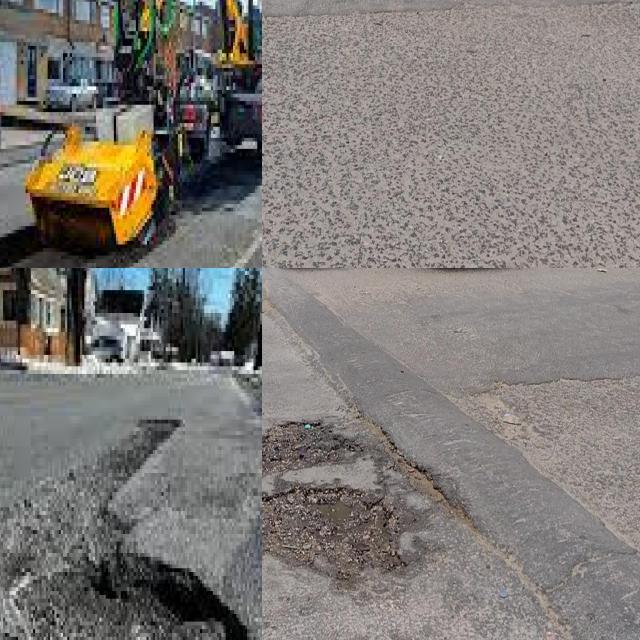Pothole: (0, 431, 230, 640), (262, 491, 397, 581), (262, 417, 342, 475)
